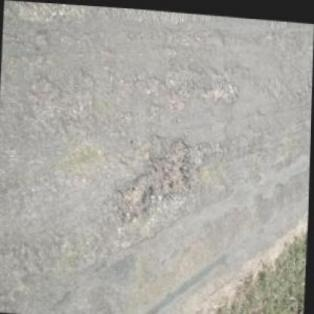Hueco: (116, 130, 193, 222), (205, 74, 240, 103)
